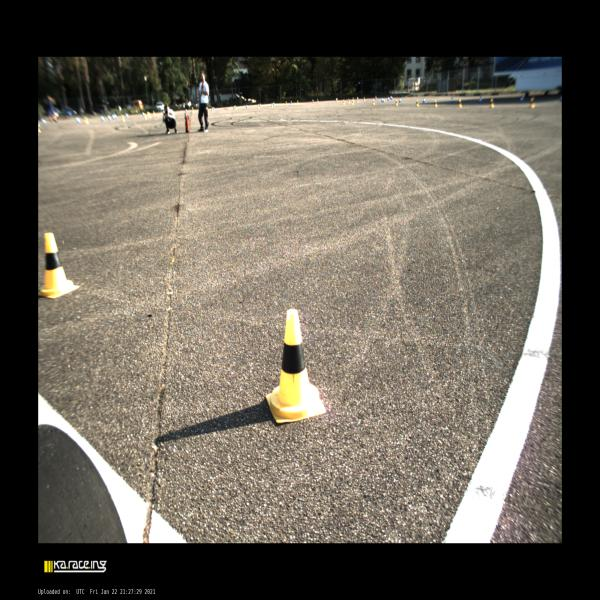blue_cone: (422, 97, 426, 104), (399, 97, 402, 103), (479, 97, 482, 102), (520, 97, 523, 102), (451, 98, 453, 104), (185, 109, 188, 112), (387, 97, 390, 100), (382, 98, 384, 102), (375, 96, 377, 100), (391, 96, 393, 100), (260, 103, 262, 107), (273, 102, 275, 106), (233, 105, 235, 109), (381, 98, 383, 101), (246, 105, 248, 108), (312, 100, 314, 102), (213, 108, 215, 110), (291, 101, 292, 104)
yellow_cone: (266, 309, 326, 423), (39, 233, 79, 298), (529, 97, 534, 108), (488, 99, 494, 108), (458, 99, 462, 108), (433, 100, 438, 107), (416, 99, 419, 107), (395, 100, 398, 106), (372, 100, 375, 106), (257, 103, 260, 109), (356, 97, 359, 103), (343, 99, 345, 105), (348, 98, 350, 104), (192, 107, 194, 113), (212, 107, 214, 112), (297, 100, 299, 105), (317, 98, 319, 103), (352, 101, 354, 105), (271, 103, 273, 107), (336, 98, 338, 102), (363, 97, 365, 101), (352, 98, 354, 102), (286, 102, 288, 105), (235, 105, 236, 110)
